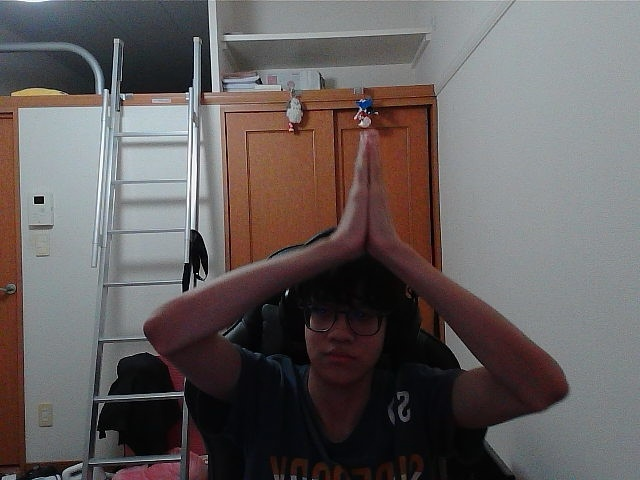pray: (355, 144, 370, 240)
